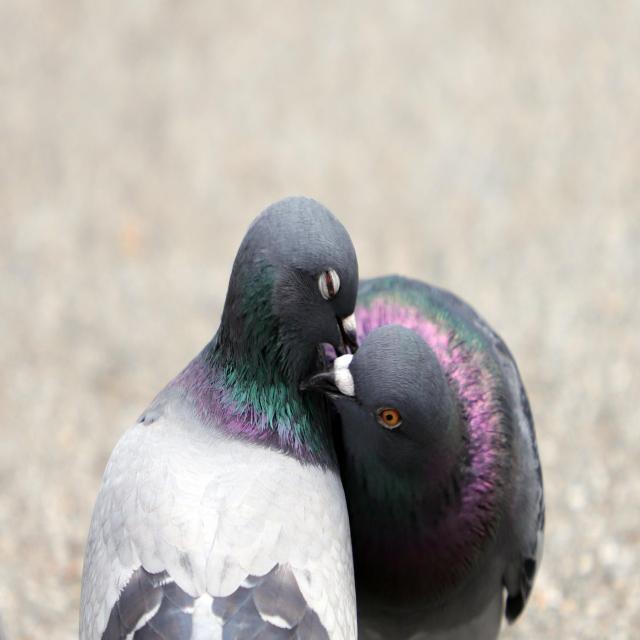pegion: (129, 93, 359, 345), (305, 341, 549, 515)
